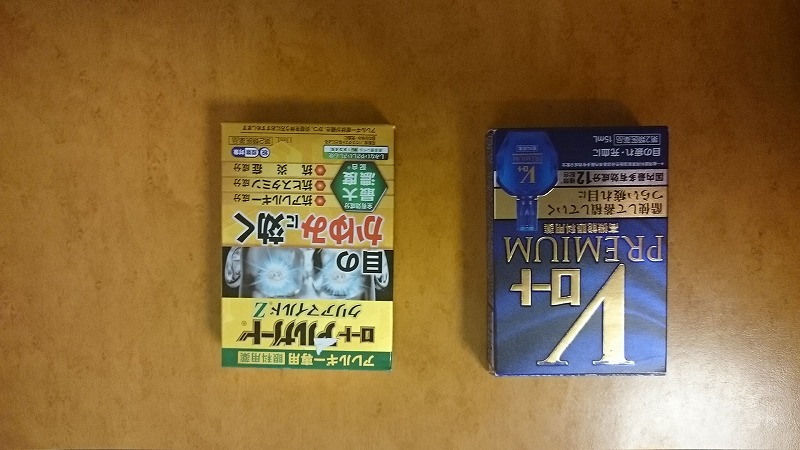C: (211, 117, 398, 374)
D: (483, 127, 677, 385)
